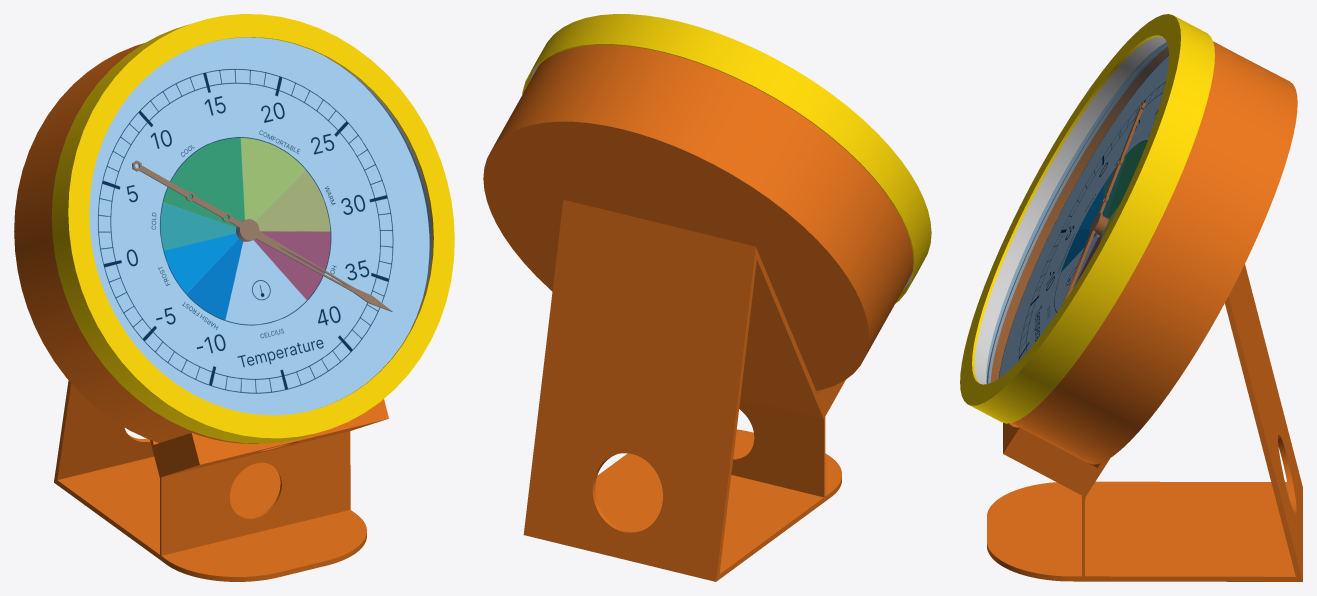
The model's file is temperature_Blender2.fbx.
The picture shows the model from 3 angles, left to right: view 1: azimuth 30°, elevation 25°; view 2: azimuth 150°, elevation 25°; view 3: azimuth 270°, elevation 25°; orthographic projection. The views are drawn at different scales.
Parts seen in each view (by area): view 1: Glass, DialGraphic, GaugeStand, Dial_Cover, MainBody, Pointer, Dial_Holder_2; view 2: GaugeStand, MainBody, Dial_Cover; view 3: MainBody, GaugeStand, Dial_Cover, Glass, DialGraphic, Dial_Holder_2, Dial_Holder, Pointer.
Part boxes in pixels (left/top/right/bottom): Glass: left=89, top=37, right=430, bottom=414; DialGraphic: left=89, top=37, right=430, bottom=415; GaugeStand: left=54, top=380, right=388, bottom=581; Dial_Cover: left=51, top=14, right=454, bottom=443; MainBody: left=14, top=43, right=430, bottom=443; Pointer: left=132, top=160, right=392, bottom=311; Dial_Holder_2: left=325, top=56, right=432, bottom=329; GaugeStand: left=523, top=199, right=845, bottom=581; MainBody: left=483, top=45, right=913, bottom=390; Dial_Cover: left=522, top=14, right=931, bottom=303; MainBody: left=990, top=41, right=1297, bottom=464; GaugeStand: left=987, top=264, right=1302, bottom=581; Dial_Cover: left=960, top=14, right=1214, bottom=423; Glass: left=986, top=42, right=1168, bottom=383; DialGraphic: left=999, top=55, right=1168, bottom=377; Dial_Holder_2: left=974, top=36, right=1166, bottom=384; Dial_Holder: left=986, top=42, right=1167, bottom=383; Pointer: left=1062, top=102, right=1145, bottom=304.
Bounding box in the file's own units: 15.7 × 19.57 × 12.23.
